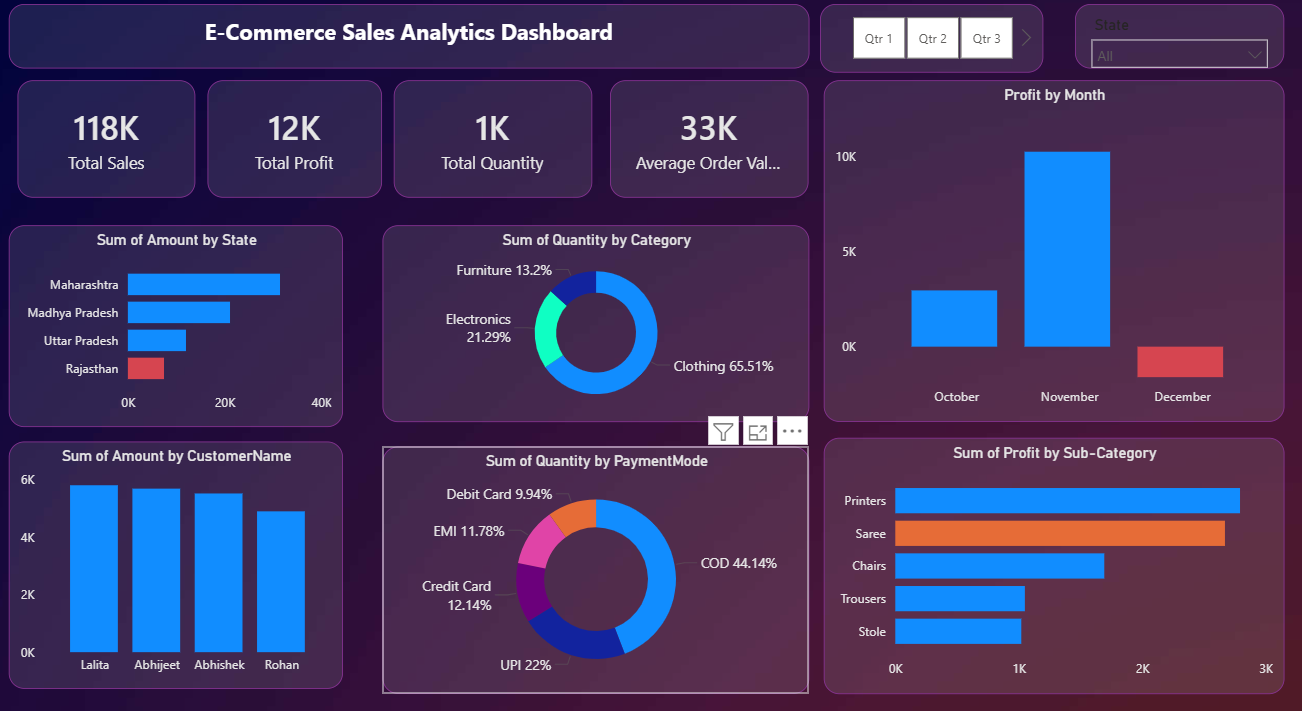

What the dashboard file says about the page in this screenshot:
{"tool":"powerbi","page":{"name":"Page 1","canvas":[1280,720],"ordinal":0},"visuals":[{"type":"textbox","box":[12.8,9.3,774.4,62.8],"z":0},{"type":"columnChart","title":"Profit by Month ","fields":{"Category":["Orders.Order Date.Variation.Date Hierarchy.Month"],"Y":["Sum(Details.Profit)"]},"box":[801.2,83.7,445.4,330.2],"z":1000},{"type":"barChart","fields":{"Category":["Details.Sub-Category"],"Y":["Sum(Details.Profit)"]},"box":[801.2,429.1,445.4,247.7],"z":2000},{"type":"donutChart","fields":{"Category":["Details.Category"],"Y":["Sum(Details.Quantity)"]},"box":[374.4,223.3,412.8,190.7],"z":3000},{"type":"donutChart","fields":{"Category":["Details.PaymentMode"],"Y":["Sum(Details.Quantity)"]},"box":[374.4,437.2,412.8,239.5],"z":4000},{"type":"cardVisual","fields":{"Data":["Sum(Details.Amount)"]},"box":[22.1,83.7,172.1,114],"z":5000},{"type":"cardVisual","fields":{"Data":["Sum(Details.Profit)"]},"box":[205.8,83.7,168.6,114],"z":6000},{"type":"cardVisual","fields":{"Data":["Sum(Details.Quantity)"]},"box":[386,83.7,191.9,114],"z":7000},{"type":"cardVisual","fields":{"Data":["Sum(Details.AOV)"]},"box":[595.4,83.7,191.9,114],"z":8000},{"type":"barChart","fields":{"Category":["Orders.State"],"Y":["Sum(Details.Amount)"]},"box":[12.8,223.3,323.3,195.3],"z":9000},{"type":"columnChart","fields":{"Category":["Orders.CustomerName"],"Y":["Sum(Details.Amount)"]},"box":[12.8,432.6,323.3,239.5],"z":10000},{"type":"slicer","fields":{"Values":["Orders.Order Date.Variation.Date Hierarchy.Quarter"]},"box":[797.7,9.3,216.3,66.3],"z":11000},{"type":"slicer","fields":{"Values":["Orders.State"]},"box":[1044.2,9.3,202.3,62.8],"z":12000}]}

Visuals, with their boxes on the page's 1280x720 design canvas (x1, y1, x2, y2). These are canvas units, not pixel positions in the 1302x711 screenshot, which may show the page scaled, cropped or inside an application window:
textbox: BBox(13, 9, 787, 72)
"Profit by Month " columnChart: BBox(801, 84, 1247, 414)
barChart - Details.Sub-Category x Sum(Details.Profit): BBox(801, 429, 1247, 677)
donutChart - Details.Category x Sum(Details.Quantity): BBox(374, 223, 787, 414)
donutChart - Details.PaymentMode x Sum(Details.Quantity): BBox(374, 437, 787, 677)
cardVisual - Sum(Details.Amount): BBox(22, 84, 194, 198)
cardVisual - Sum(Details.Profit): BBox(206, 84, 374, 198)
cardVisual - Sum(Details.Quantity): BBox(386, 84, 578, 198)
cardVisual - Sum(Details.AOV): BBox(595, 84, 787, 198)
barChart - Orders.State x Sum(Details.Amount): BBox(13, 223, 336, 419)
columnChart - Orders.CustomerName x Sum(Details.Amount): BBox(13, 433, 336, 672)
slicer - Orders.Order Date.Variation.Date Hierarchy.Quarter: BBox(798, 9, 1014, 76)
slicer - Orders.State: BBox(1044, 9, 1246, 72)
